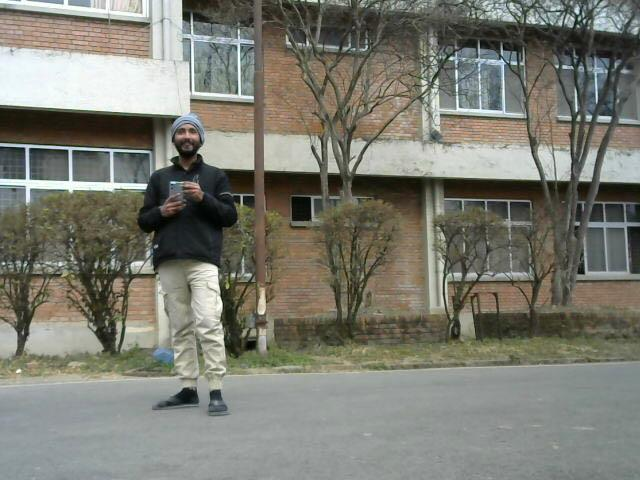Person: (136, 106, 262, 430)
Road: (4, 362, 640, 480)
Tree: (406, 3, 640, 318), (279, 3, 434, 335), (11, 198, 165, 361)
